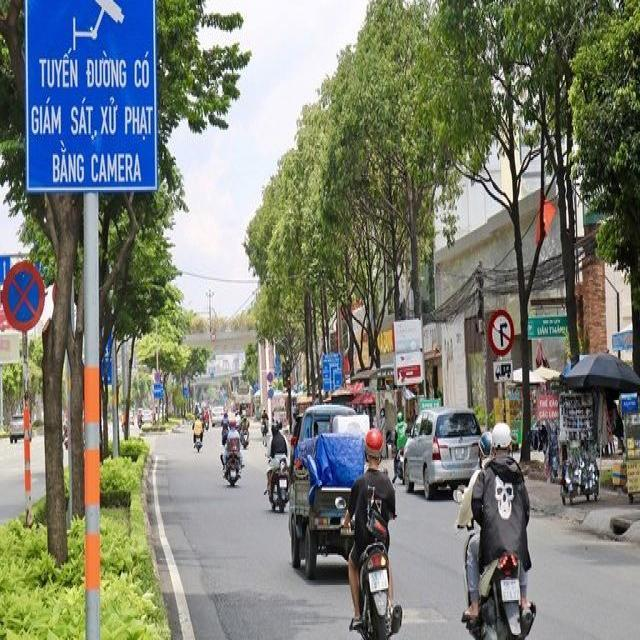normal: (181, 391, 559, 640)
